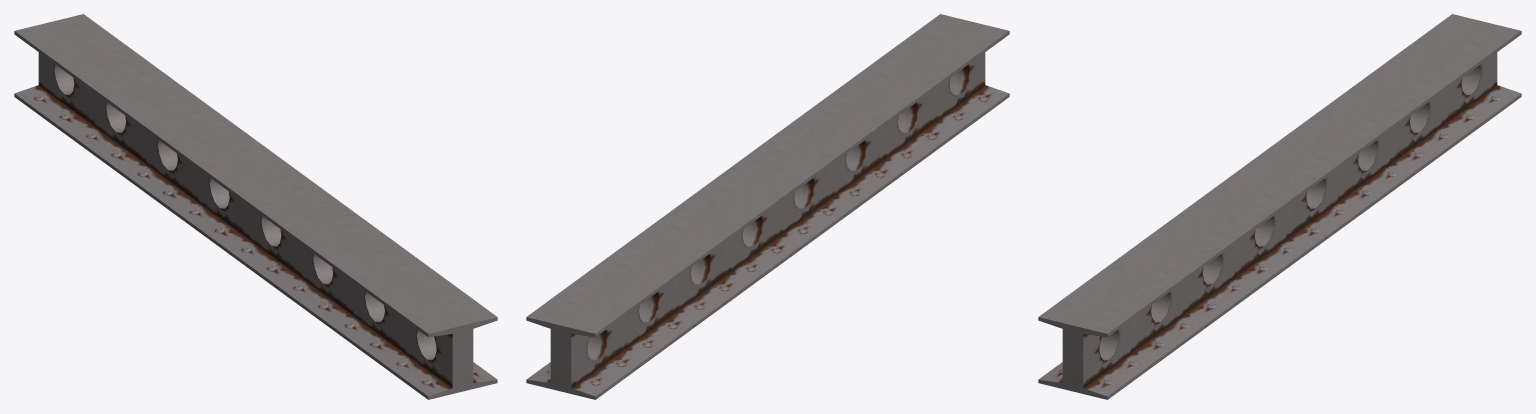
Rendered from Girderbeam.FBX.
3 renders of one model, left to right at view 1: azimuth 30°, elevation 25°; view 2: azimuth 150°, elevation 25°; view 3: azimuth 330°, elevation 25°, orthographic.
Parts seen in each view (by area): view 1: Girderpiece; view 2: Girderpiece; view 3: Girderpiece.
Boxes of the visible parts, bbox=[...] form: Girderpiece: bbox=[14, 14, 497, 399]; Girderpiece: bbox=[526, 14, 1009, 399]; Girderpiece: bbox=[1038, 14, 1521, 399].
Size of the model in its own units: 10 by 9.1 by 104.
